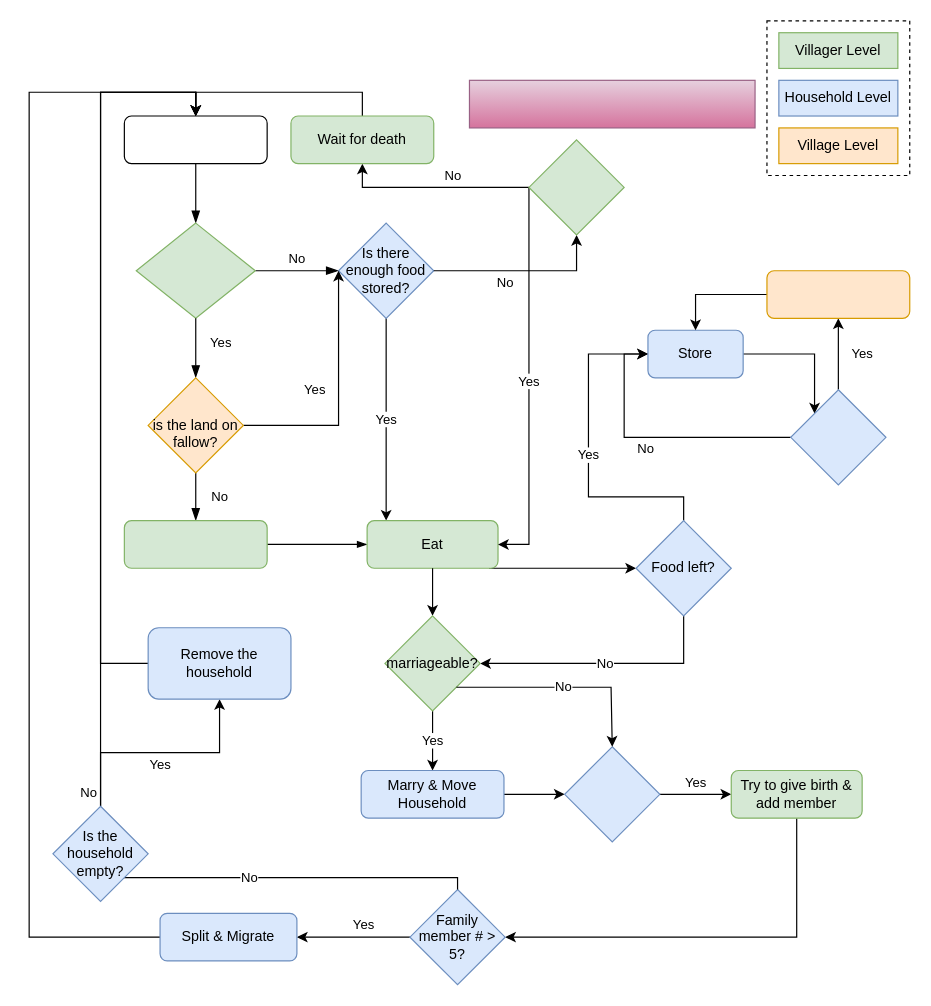
The diagram is 931 pixels wide and 1006 high, and some of its shapes have lost their labels. Here are the shapes that lost their labels. From the top down, the centre of each, then its label:
point (611, 103): What is happening in the village?
point (195, 139): start
point (576, 187): can it get food from village?
point (195, 270): can villager farm?
point (838, 294): Update village network
point (838, 437): will the household trade?
point (195, 543): Farm
point (611, 794): Free land & Married couple?
